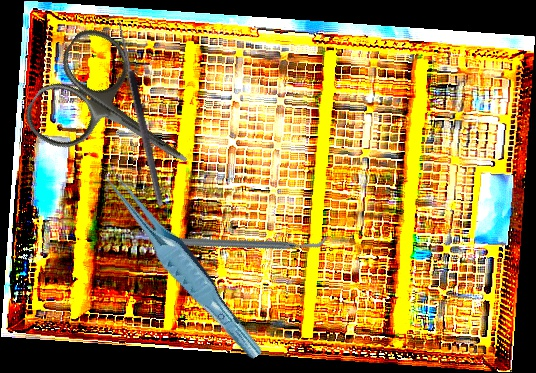Chopper: (156, 172, 328, 309)
Hook Surgical: (104, 13, 166, 209)
Iris Scissors: (16, 19, 221, 214)
Tissue Forceps: (99, 155, 265, 372)
